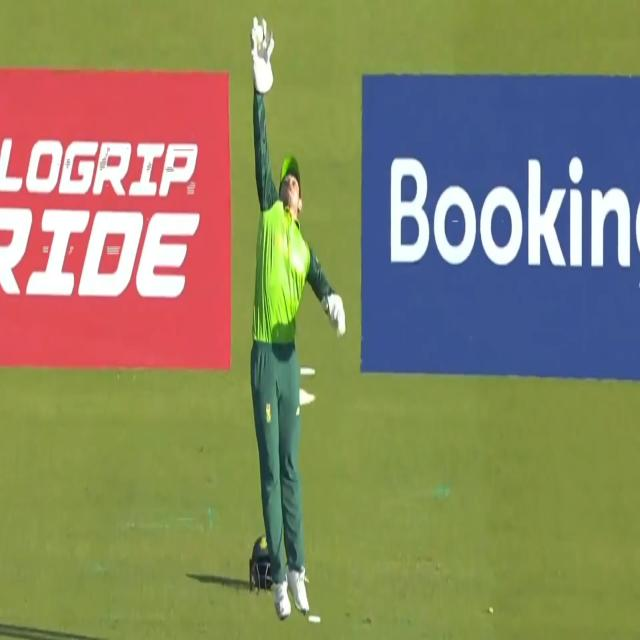ball: (251, 22, 269, 49)
